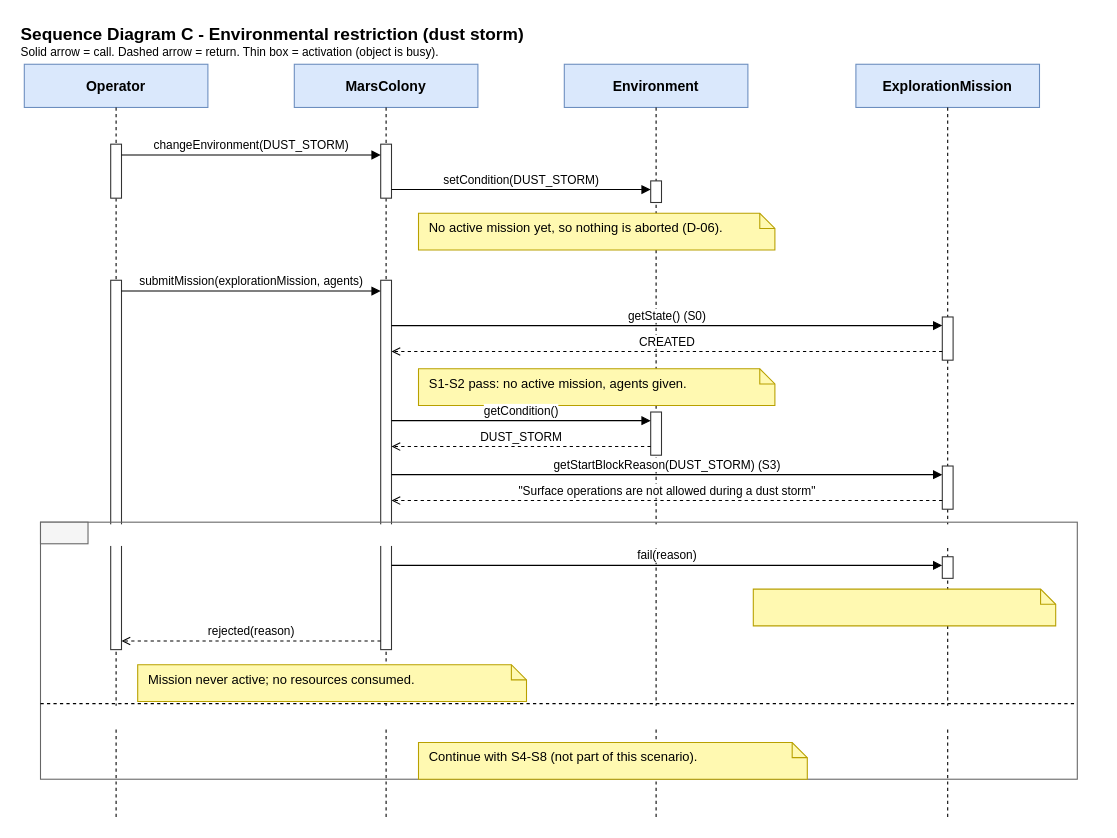
Image size: 1117x838. Some labels were removed from this diagram. The centre of each missing label's shape, as x and y in pixels:
"[else: reason is null]" goes at (557,716).
"[reason is not null]" goes at (580,534).
"alt" goes at (63,532).
"Mission state: CREATED -> FAILED" goes at (904,607).
